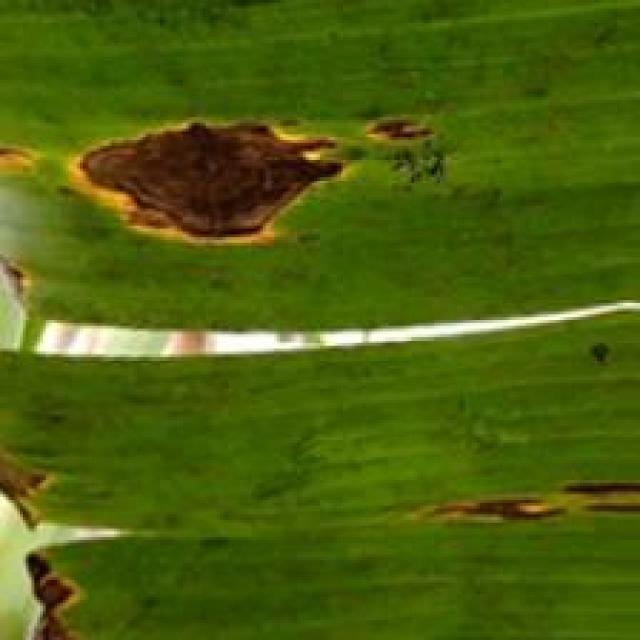Bacterial_spot: (62, 109, 350, 254), (401, 466, 640, 556), (4, 541, 95, 637), (355, 99, 444, 172), (0, 443, 71, 526), (0, 128, 54, 192), (0, 252, 46, 317), (586, 331, 616, 372)
